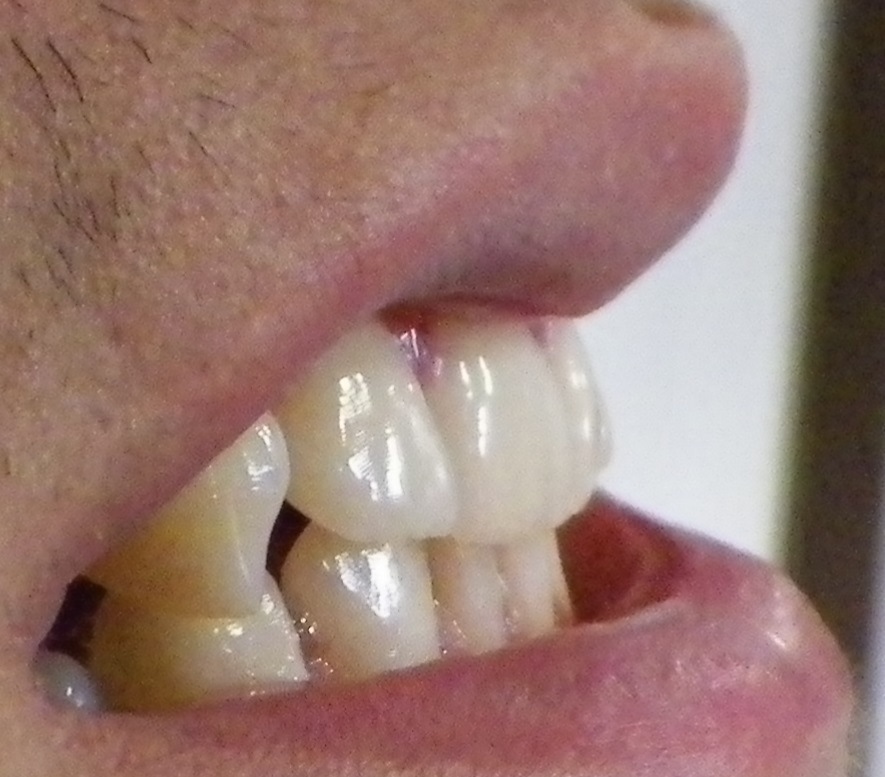boca: (44, 301, 611, 708)
